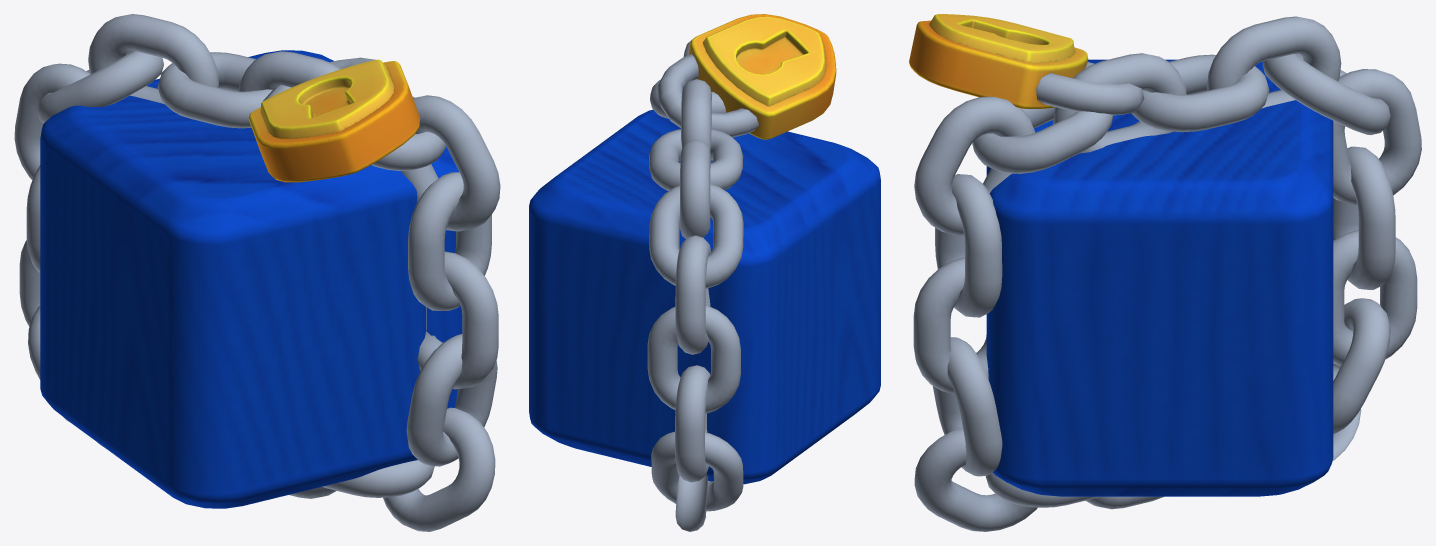
The model's file is Chain_Block_01.fbx.
3 renders of one model, left to right at view 1: azimuth 30°, elevation 25°; view 2: azimuth 150°, elevation 25°; view 3: azimuth 270°, elevation 25°, orthographic. The views are drawn at different scales.
Visible parts, largest first — view 1: Chain_Block; view 2: Chain_Block; view 3: Chain_Block.
Part boxes in pixels (x1,y1,x2,y2): Chain_Block: (14,14,500,531); Chain_Block: (529,14,880,531); Chain_Block: (909,14,1421,531).
Size of the model in its own units: 1.01 by 1.53 by 1.48.
Materials: 2 (2 with a texture image).
